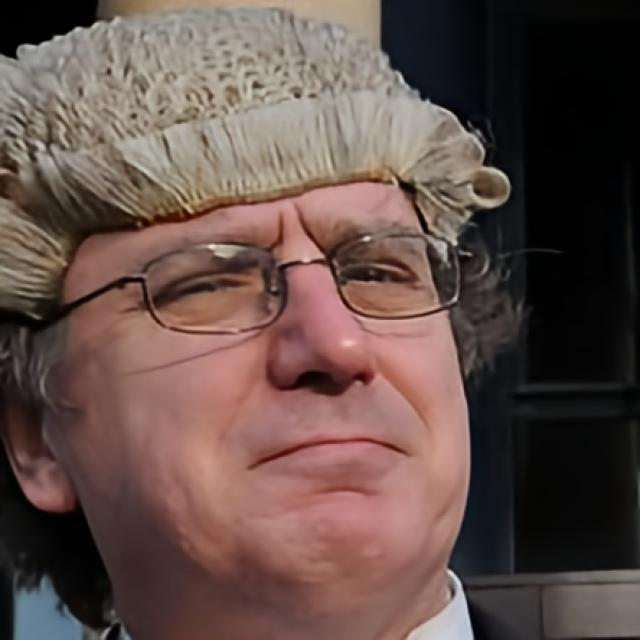anger: (74, 147, 472, 597)
